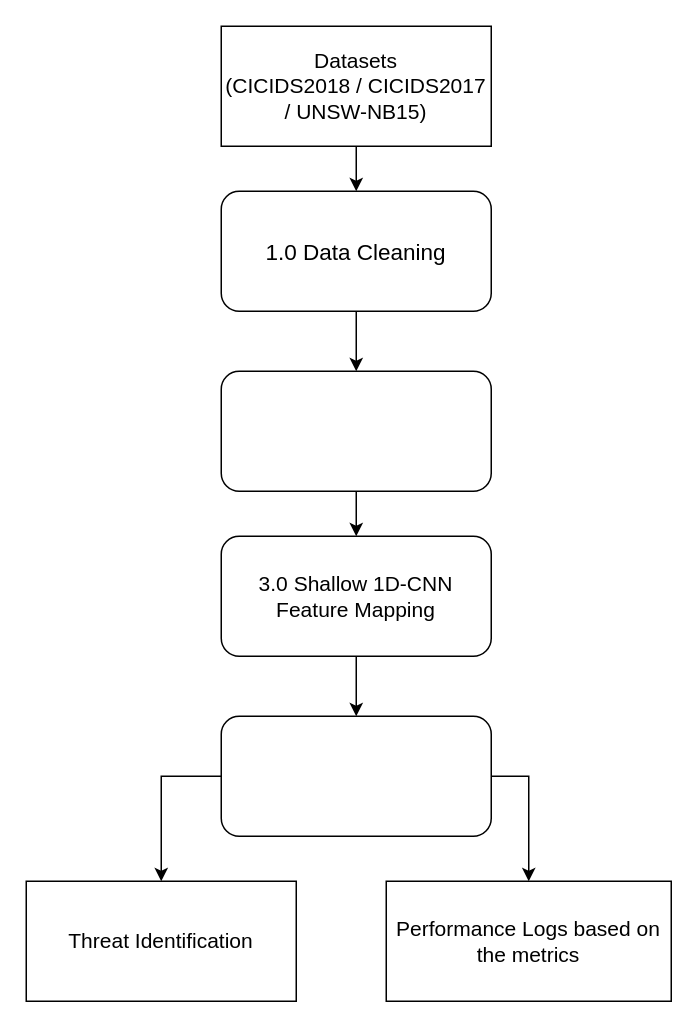
Image size: 698x1028. Some labels were removed from this diagram. Here are the shapes that lost their labels. From the top down, the box of each, then its label:
(220, 370, 491, 491): 2.0 LightGBM Feature Selection
(220, 715, 491, 836): 4.0 Threat Classification
